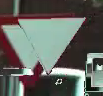Give way: (1, 7, 84, 82)
